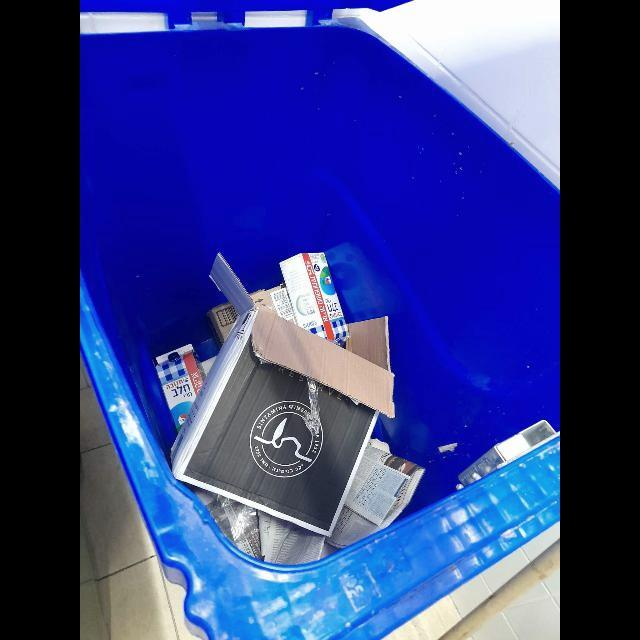cardboard: (169, 252, 394, 537)
paper: (322, 438, 425, 548)
